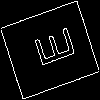E: (25, 25, 77, 72)
